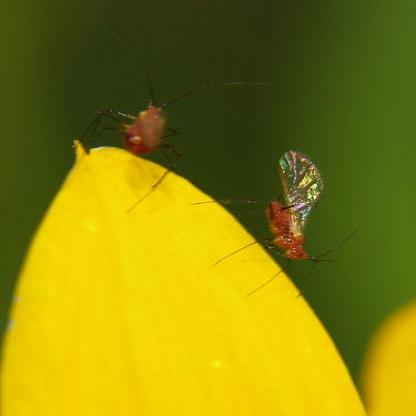aphid: (222, 147, 341, 293), (84, 60, 216, 186)
